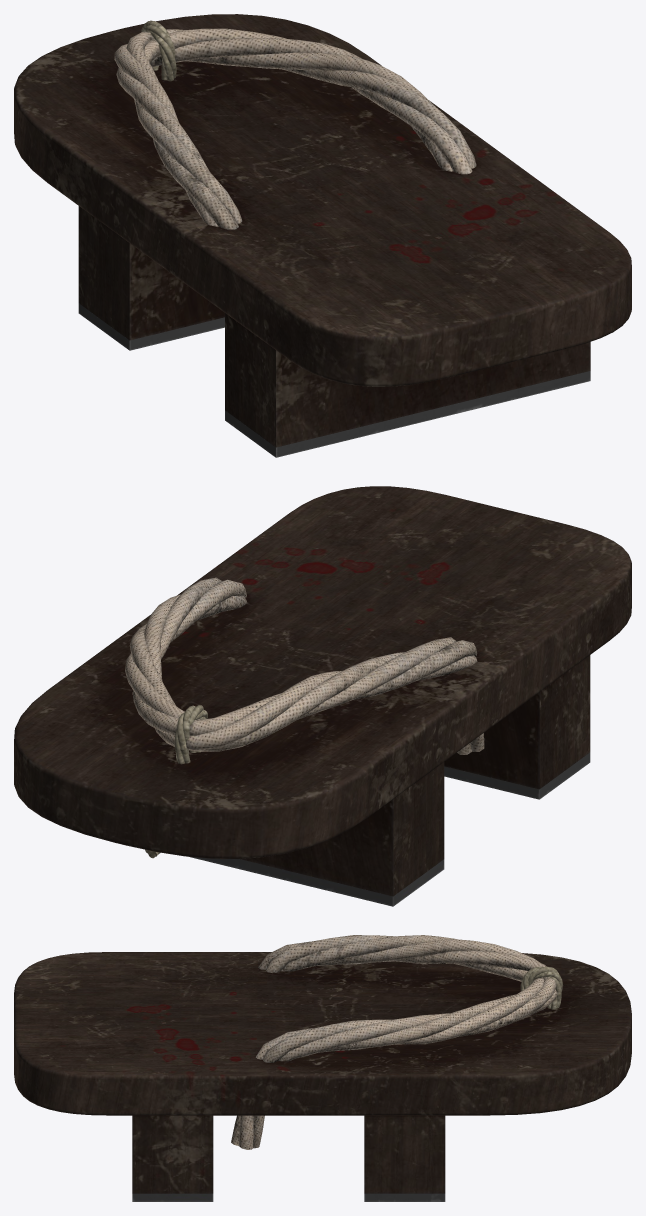
File: geta.glb
3 views of the same model, one above another, from view 1: azimuth 30°, elevation 25°; view 2: azimuth 150°, elevation 25°; view 3: azimuth 270°, elevation 25° (orthographic). The views are drawn at different scales.
Bounding box in the file's own units: 0.1723 × 0.1094 × 0.3606.
1 material, 1 textured.
